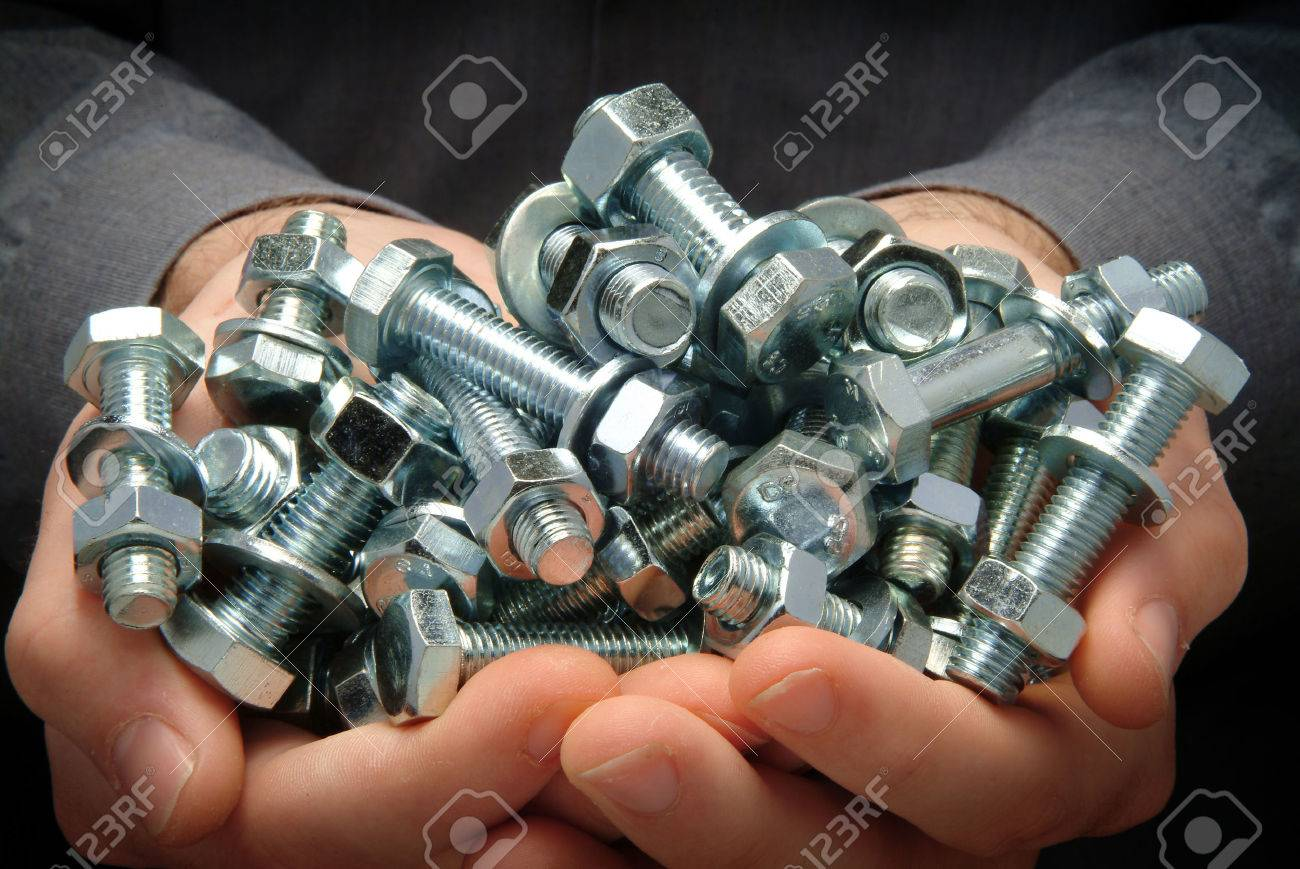loaded bolt: (932, 296, 1264, 729), (330, 224, 737, 517), (153, 357, 472, 714), (548, 68, 868, 402), (47, 295, 232, 636)
